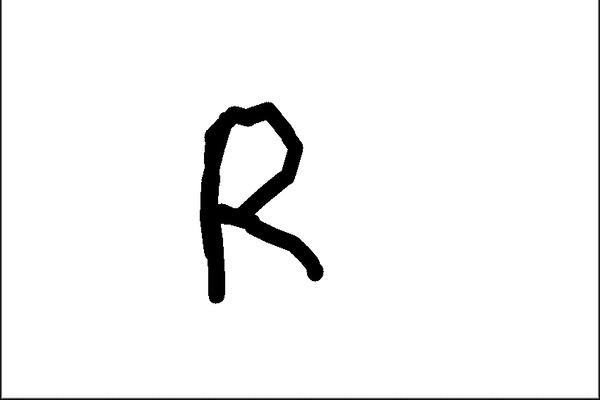R: (194, 92, 337, 306)
